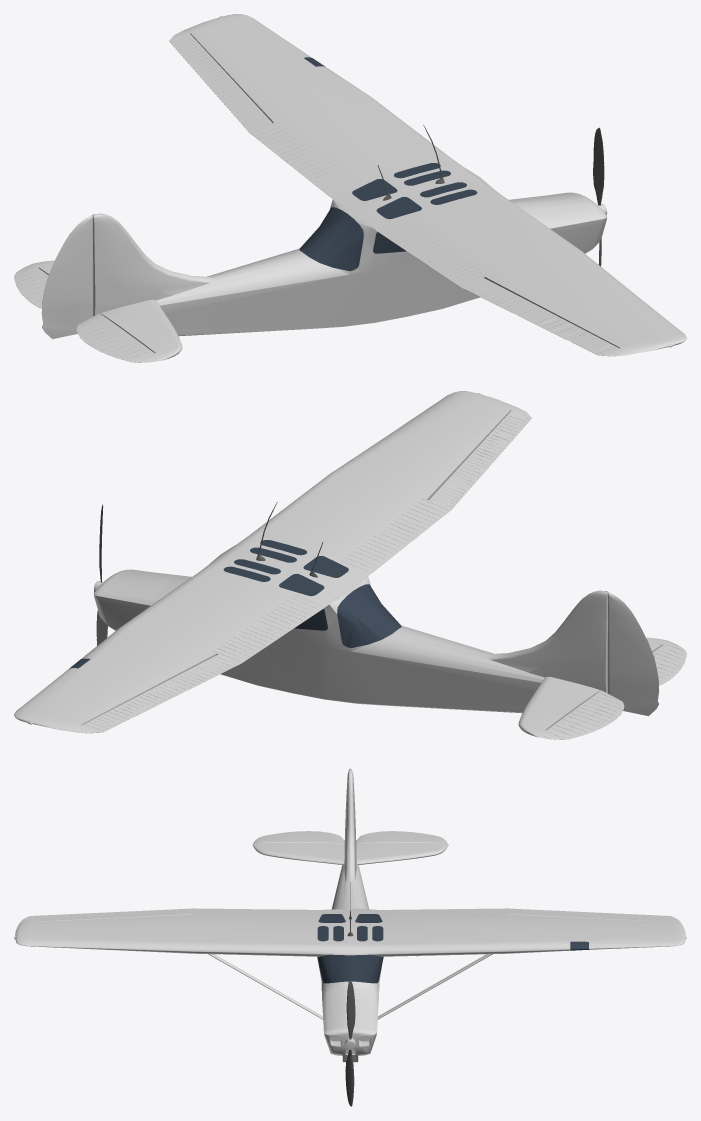
The picture shows the model from 3 angles, top to bottom: view 1: azimuth 30°, elevation 25°; view 2: azimuth 150°, elevation 25°; view 3: azimuth 270°, elevation 25°; orthographic projection. The views are drawn at different scales.
Parts seen in each view (by area): view 1: body, glass, spin; view 2: body, glass; view 3: body, glass, spin.
Part boxes in pixels (<box>): body: <box>14,14,686,362</box>; glass: <box>299,57,477,271</box>; spin: <box>593,127,604,266</box>; body: <box>14,391,686,739</box>; glass: <box>69,540,401,668</box>; body: <box>14,768,686,1062</box>; glass: <box>317,914,588,983</box>; spin: <box>345,981,355,1106</box>.
Bounding box in the file's own units: 1.59 × 0.5779 × 2.2.
